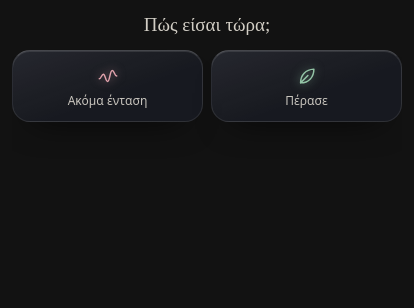
«Πώς είσαι τώρα;» after a practice › SOS, the light version: «Ακόμα ένταση» or «Πέρασε», no chapters now
Click the button "Ακόμα ένταση" at (108,86), box [12,50,203,122]
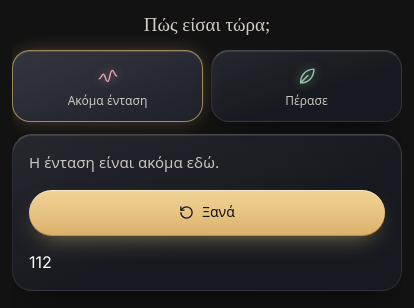
Expected: the link "Κεφάλαιο" is not shown
Result: the button "Ξανά" is shown at [29,190,385,236]
Result: the text "112" is shown at [29,252,52,272]
Click the button "Πέρασε" at (306,86), box [211,50,402,122]
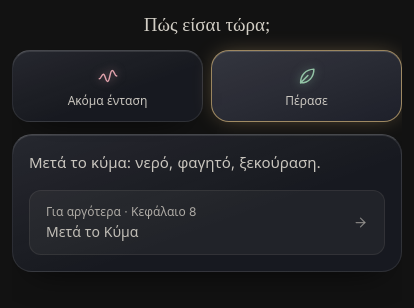
Result: the text "Μετά το κύμα: νερό, φαγητό, ξεκούραση." is shown at [29,153,321,172]
